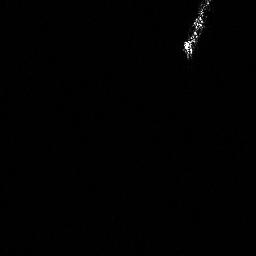ship: (177, 1, 213, 61)
